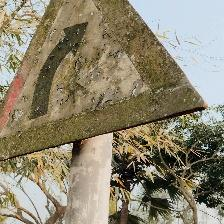Right-turn: (0, 0, 207, 162)
